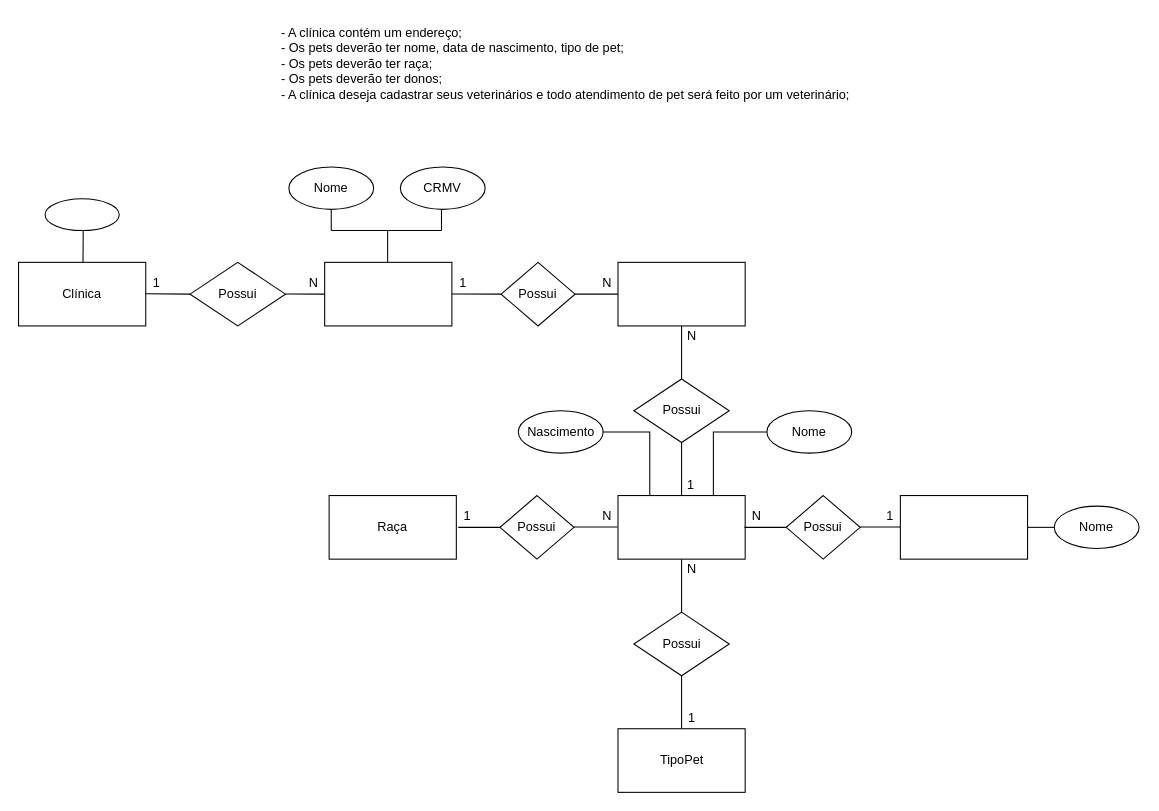
Some shapes in this 1159 by 811 pixel diagram are drawn without their labels. The centre of each missing label's shape, as x and y in pixels:
"Atendimento" belongs at (x=681, y=293).
"Dono" belongs at (x=963, y=526).
"Endereço" belongs at (x=81, y=214).
"Pet" belongs at (x=681, y=526).
"Veterinário" belongs at (x=388, y=293).
